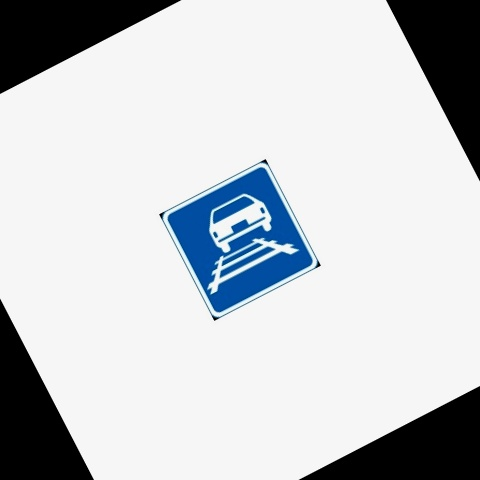Japan_Driving on tram line permitted (Except two-wheelers): (85, 87, 395, 392)
